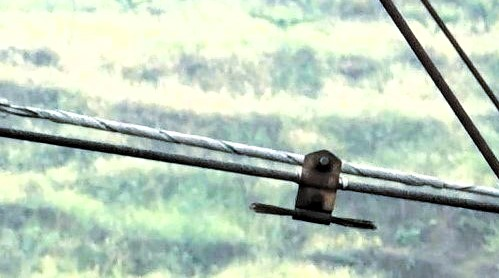Damage of shockproof hammer: (233, 147, 386, 239)
